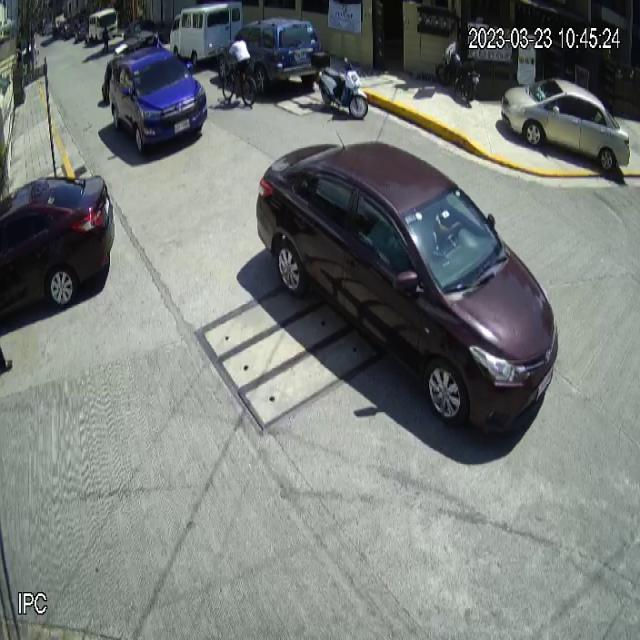Car: (256, 140, 559, 433), (0, 174, 115, 324), (500, 78, 630, 174), (109, 47, 209, 152), (217, 17, 322, 93)
Motorcycle: (310, 50, 368, 121)
Van: (170, 1, 245, 67)
